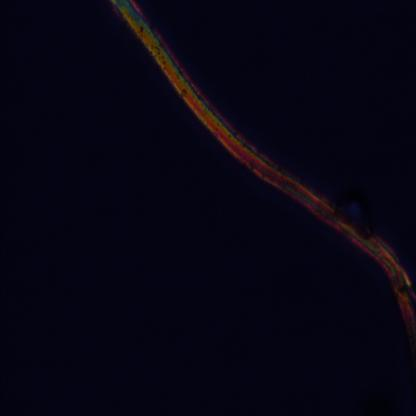Microfibre: (112, 0, 416, 350)
